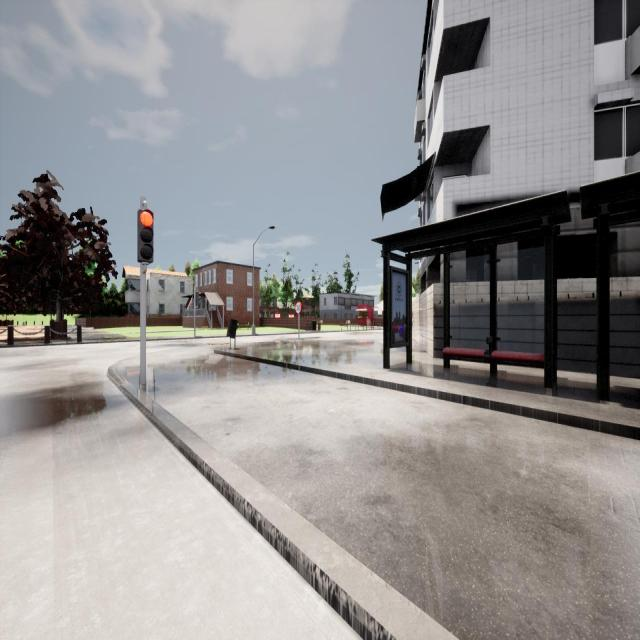Traffic_Signs: (295, 302, 302, 313)
traffic_light: (137, 210, 154, 262), (196, 292, 201, 305)
